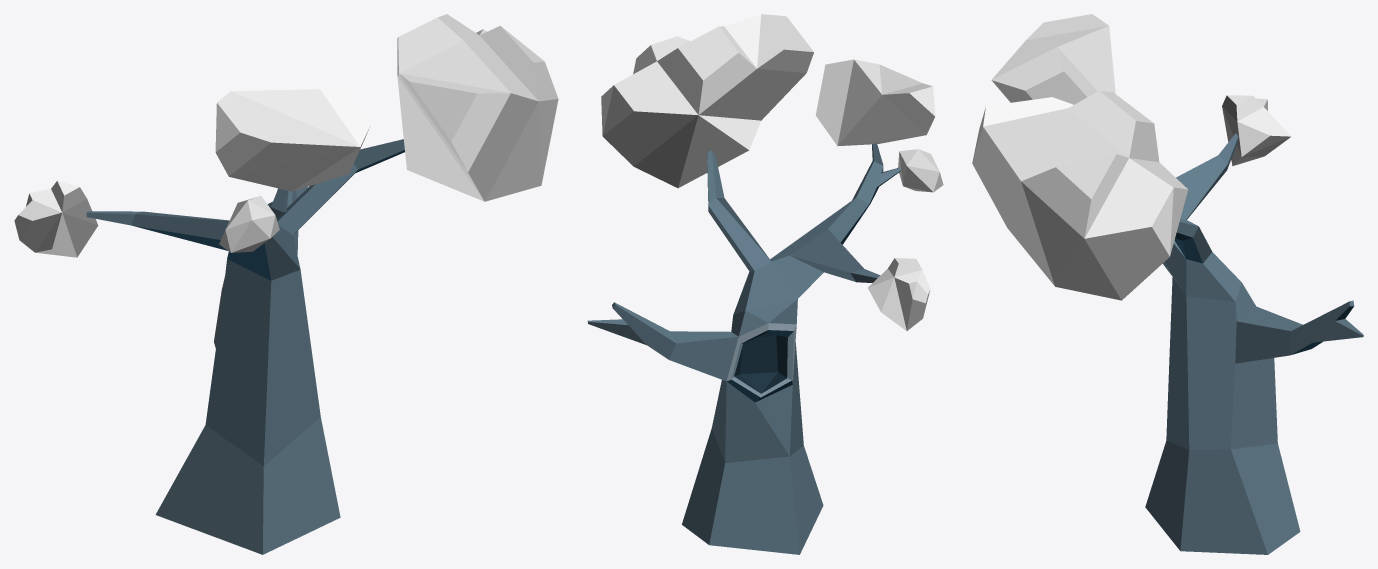
The model's file is TreeWinter1.fbx.
The picture shows the model from 3 angles, left to right: view 1: azimuth 30°, elevation 25°; view 2: azimuth 150°, elevation 25°; view 3: azimuth 270°, elevation 25°; orthographic projection. The views are drawn at different scales.
Visible parts, largest first — view 1: TreeWinter1; view 2: TreeWinter1; view 3: TreeWinter1.
Boxes of the visible parts, box(x1,y1,x2,y2) form: TreeWinter1: box(14, 14, 558, 554); TreeWinter1: box(587, 14, 943, 554); TreeWinter1: box(972, 14, 1363, 554).
Size of the model in its own units: 1.78 by 1.96 by 1.44.
